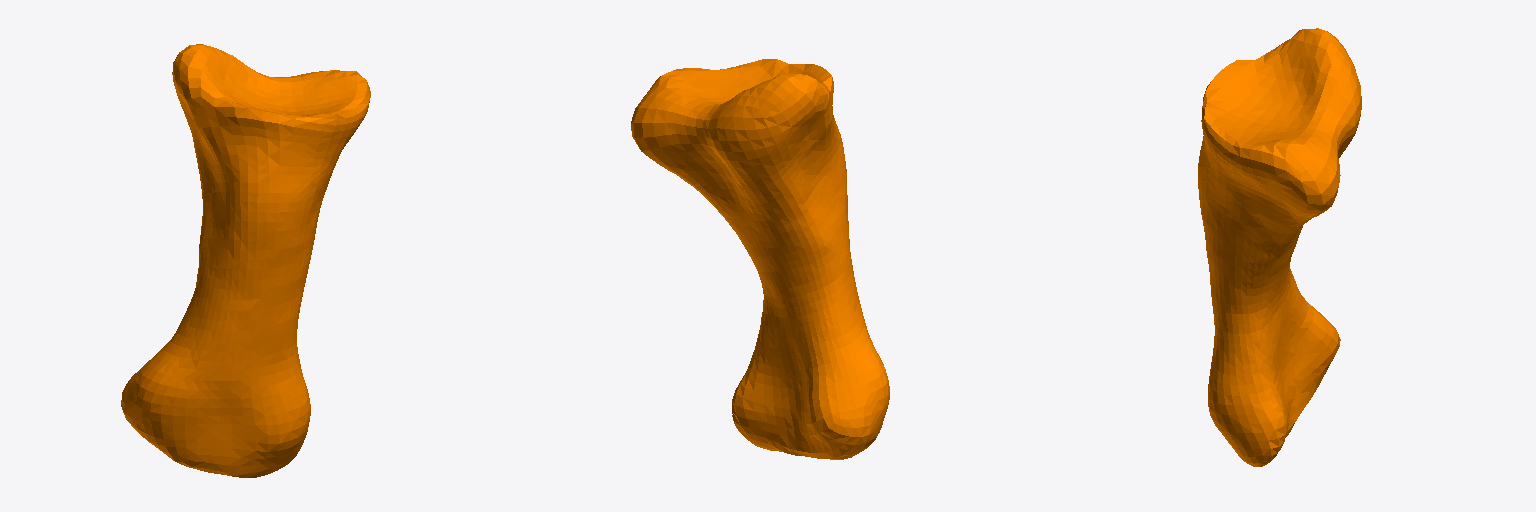
Rendered from ProximalPhalanx_3.obj.
3 views of the same model, side by side, from view 1: azimuth 30°, elevation 25°; view 2: azimuth 150°, elevation 25°; view 3: azimuth 270°, elevation 25° (orthographic).
Visible parts, largest first — view 1: Object_0ProximalPhalanx_3; view 2: Object_0ProximalPhalanx_3; view 3: Object_0ProximalPhalanx_3.
Boxes of the visible parts, x1=… form: Object_0ProximalPhalanx_3: x1=121, y1=44, x2=370, y2=477; Object_0ProximalPhalanx_3: x1=631, y1=59, x2=889, y2=459; Object_0ProximalPhalanx_3: x1=1198, y1=28, x2=1361, y2=466.
Size of the model in its own units: 17.53 by 29.13 by 10.6.